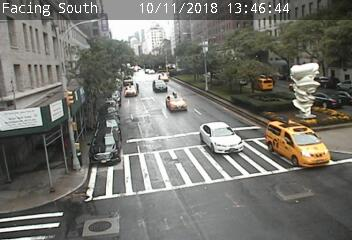car: (266, 120, 330, 167), (198, 121, 243, 154), (89, 127, 120, 164), (305, 91, 342, 108), (166, 94, 186, 111), (250, 78, 274, 91), (152, 80, 166, 92), (124, 85, 136, 95), (158, 73, 169, 81)
